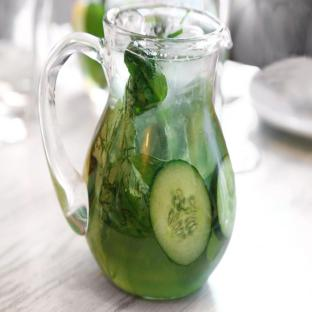Cucumber: (150, 160, 211, 265), (210, 155, 235, 238)
